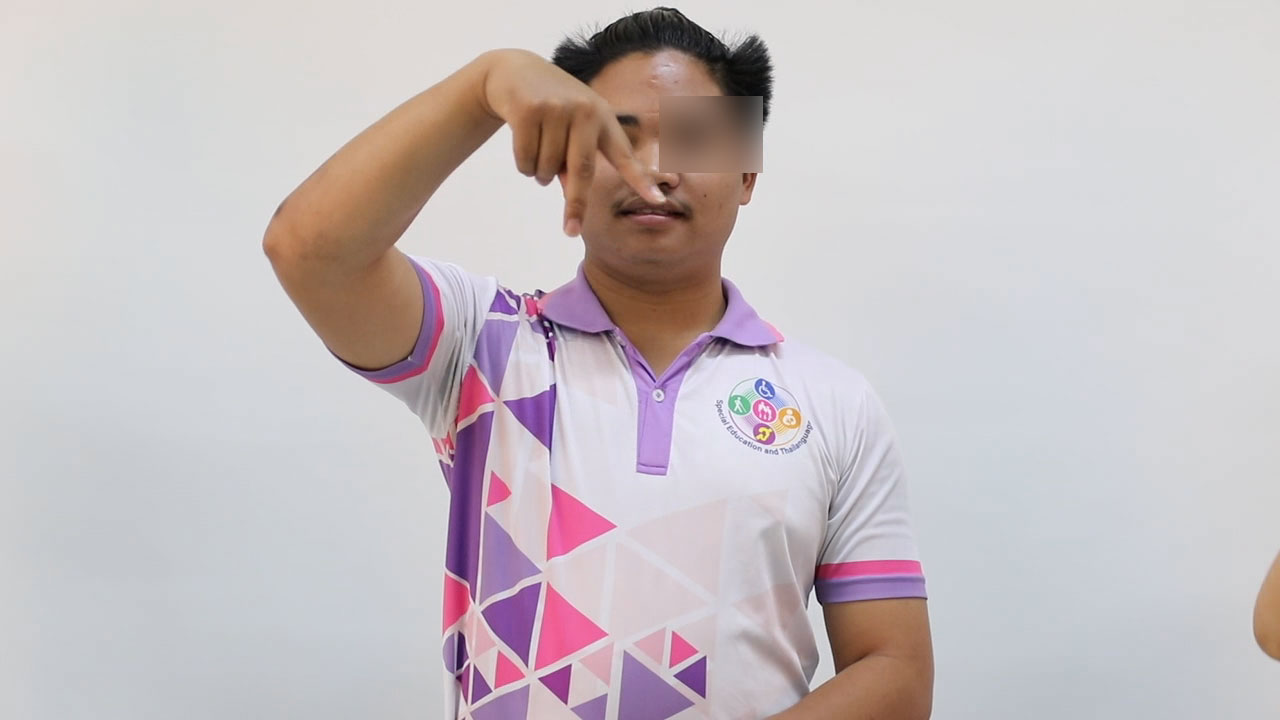por: (466, 39, 679, 242)
